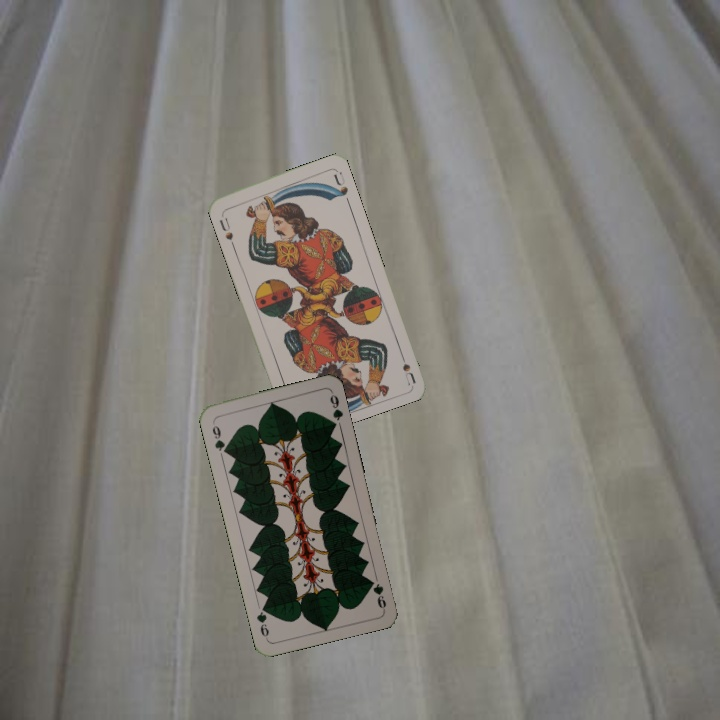G9: (366, 576, 389, 612), (208, 421, 231, 456)
SU: (395, 346, 418, 386), (215, 208, 236, 243)
